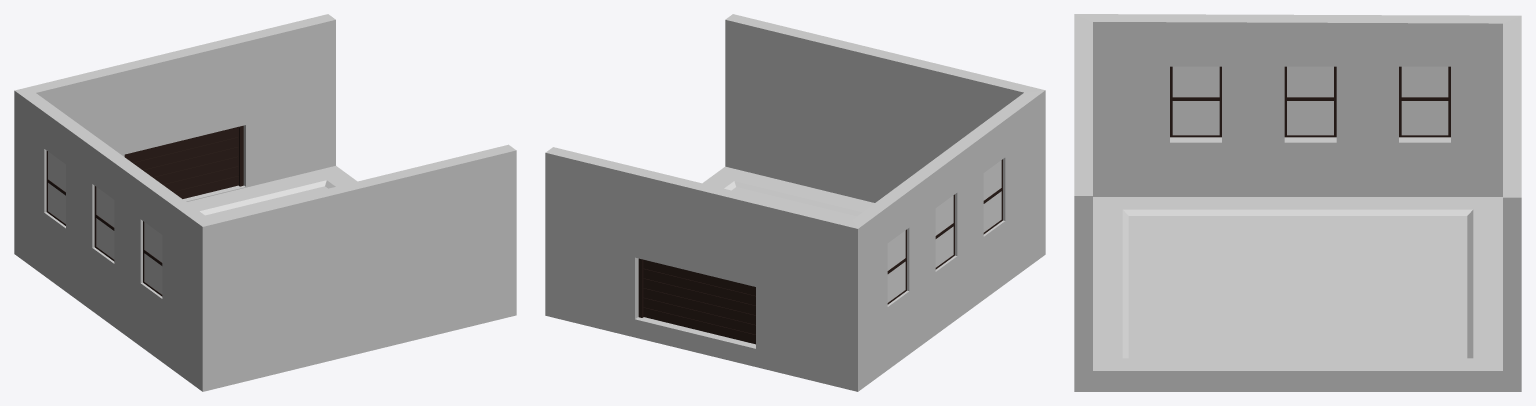
File: dead_end.fbx
3 views of the same model, side by side, from view 1: azimuth 30°, elevation 25°; view 2: azimuth 150°, elevation 25°; view 3: azimuth 270°, elevation 25° (orthographic). The views are drawn at different scales.
Parts seen in each view (by area): view 1: wall room.001, Cube.071, off centered doors room.005, Cube.070; view 2: wall room.001, Cube.071, off centered doors room.005; view 3: wall room.001, off centered doors room.005.
Part boxes in pixels (x1=…): wall room.001: x1=14, y1=14, x2=516, y2=391; Cube.071: x1=125, y1=128, x2=238, y2=198; off centered doors room.005: x1=46, y1=151, x2=162, y2=296; Cube.070: x1=124, y1=125, x2=243, y2=186; wall room.001: x1=545, y1=14, x2=1045, y2=391; Cube.071: x1=643, y1=259, x2=755, y2=344; off centered doors room.005: x1=887, y1=159, x2=1002, y2=304; wall room.001: x1=1074, y1=14, x2=1521, y2=391; off centered doors room.005: x1=1170, y1=66, x2=1450, y2=137.
Bounding box in the file's own units: 208 × 105 × 216.
